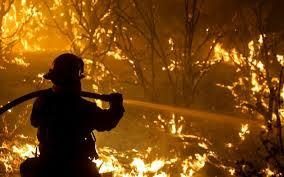fire: (0, 0, 134, 90), (163, 34, 181, 71), (261, 166, 282, 176)
